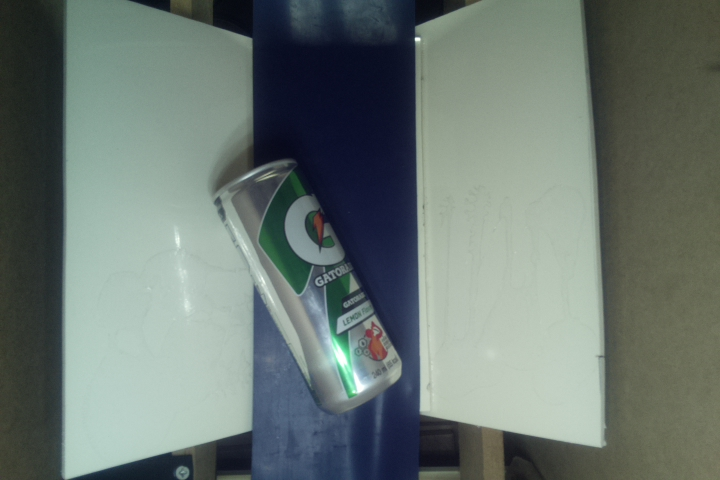can: (214, 156, 404, 416)
